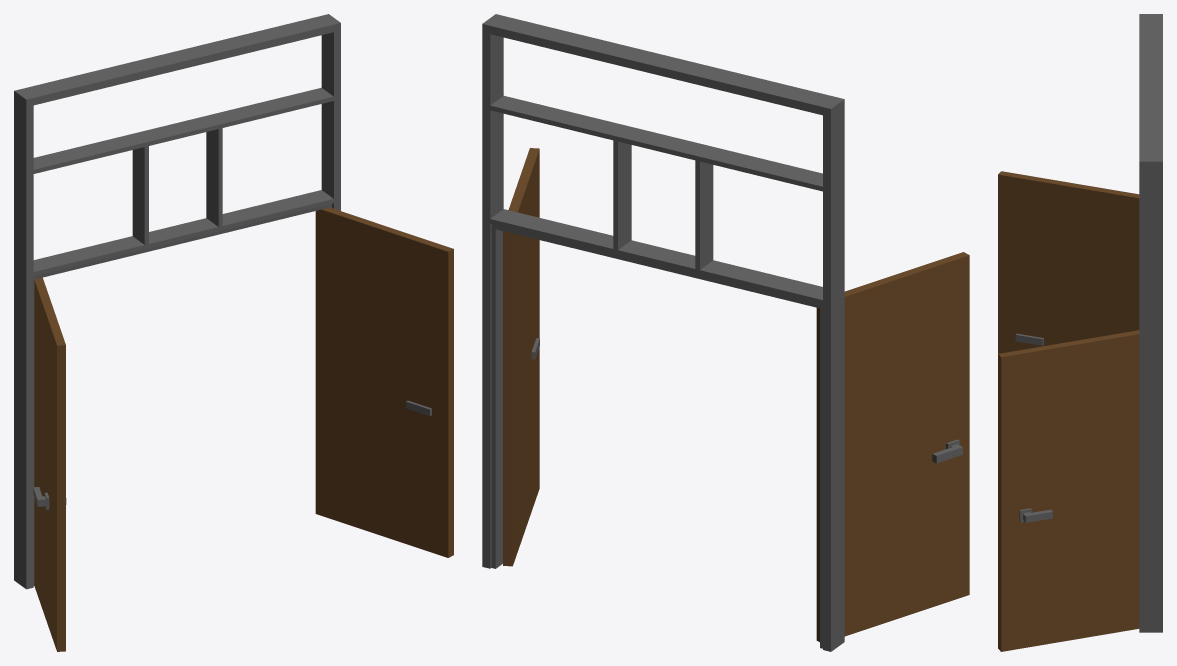
Rendered from DoorOpen.fbx.
3 views of the same model, side by side, from view 1: azimuth 30°, elevation 25°; view 2: azimuth 150°, elevation 25°; view 3: azimuth 270°, elevation 25° (orthographic). The views are drawn at different scales.
Visible parts, largest first — view 1: FullWindowDoorOpen; view 2: FullWindowDoorOpen; view 3: FullWindowDoorOpen.
Boxes of the visible parts, x1,y1,x2,y2 form: FullWindowDoorOpen: (14,14,453,651); FullWindowDoorOpen: (482,14,969,651); FullWindowDoorOpen: (998,14,1162,651).
Bounding box in the file's own units: 261 × 297 × 94.33.
